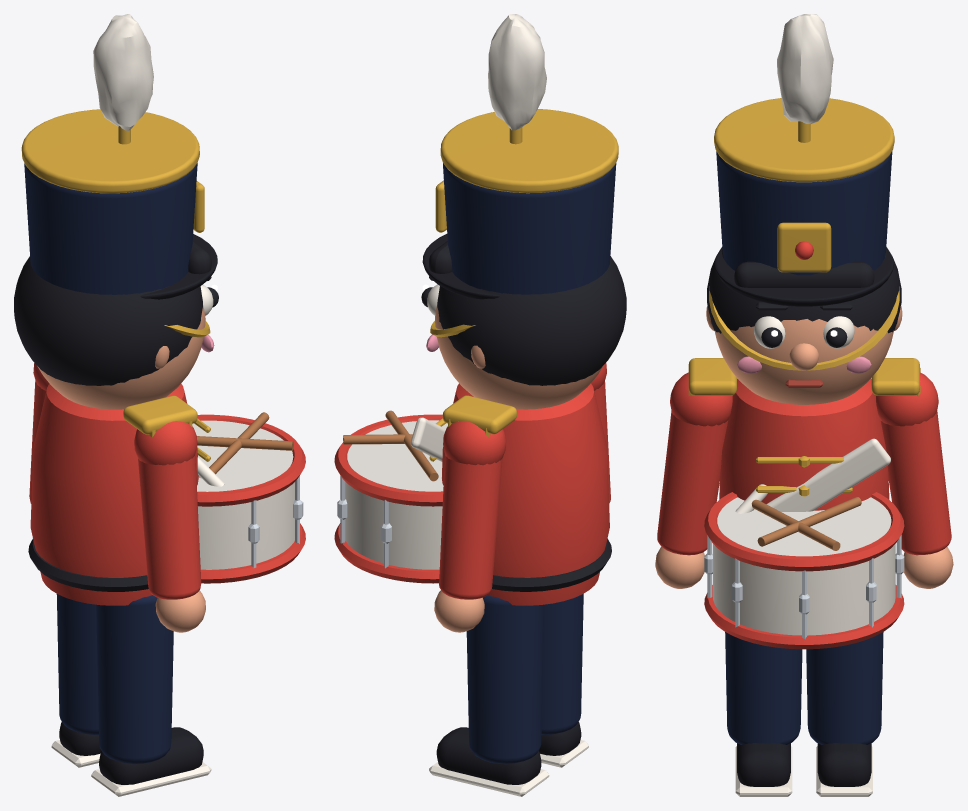
File: drummer.glb
3 renders of one model, left to right at view 1: azimuth 30°, elevation 25°; view 2: azimuth 150°, elevation 25°; view 3: azimuth 270°, elevation 25°, orthographic.
Parts seen in each view (by area): view 1: drummer; view 2: drummer; view 3: drummer.
Boxes of the visible parts, x1,y1,x2,y2 form: drummer: (14,14,305,796); drummer: (334,14,626,796); drummer: (655,14,953,796).
Bounding box in the file's own units: 0.7049 × 1.9 × 0.6762.
1 material, 1 textured.
